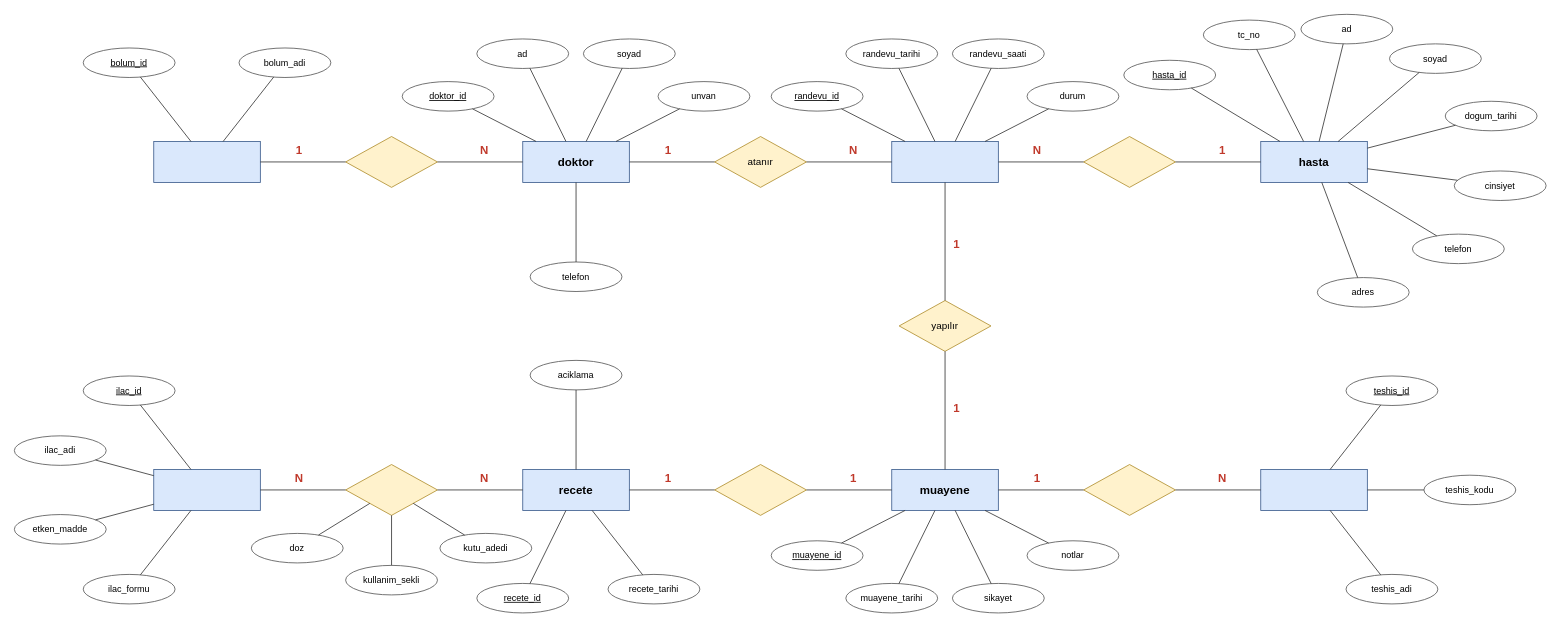
Image size: 1560x627. Some labels were removed from this diagram. Here are the shapes that lost their labels. From the top down, the centre of each, then its label:
At (206,161): "bolum".
At (391,161): "çalışır".
At (944,161): "randevu".
At (1129,161): "alır".
At (206,489): "ilac".
At (391,489): "içerir".
At (760,489): "yazılır".
At (1129,489): "konur".
At (1313,489): "teshis".
